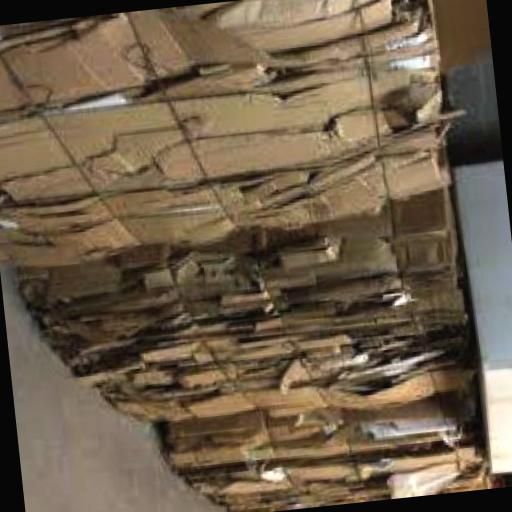cardboard: (0, 0, 462, 274), (12, 192, 480, 440), (169, 390, 495, 512), (434, 0, 493, 73)
